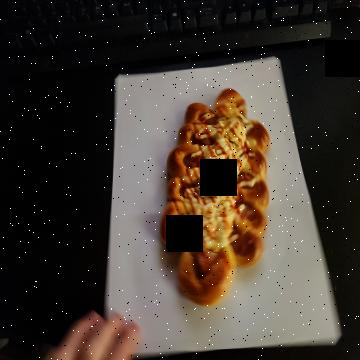pizza_bread: (160, 86, 268, 308)
